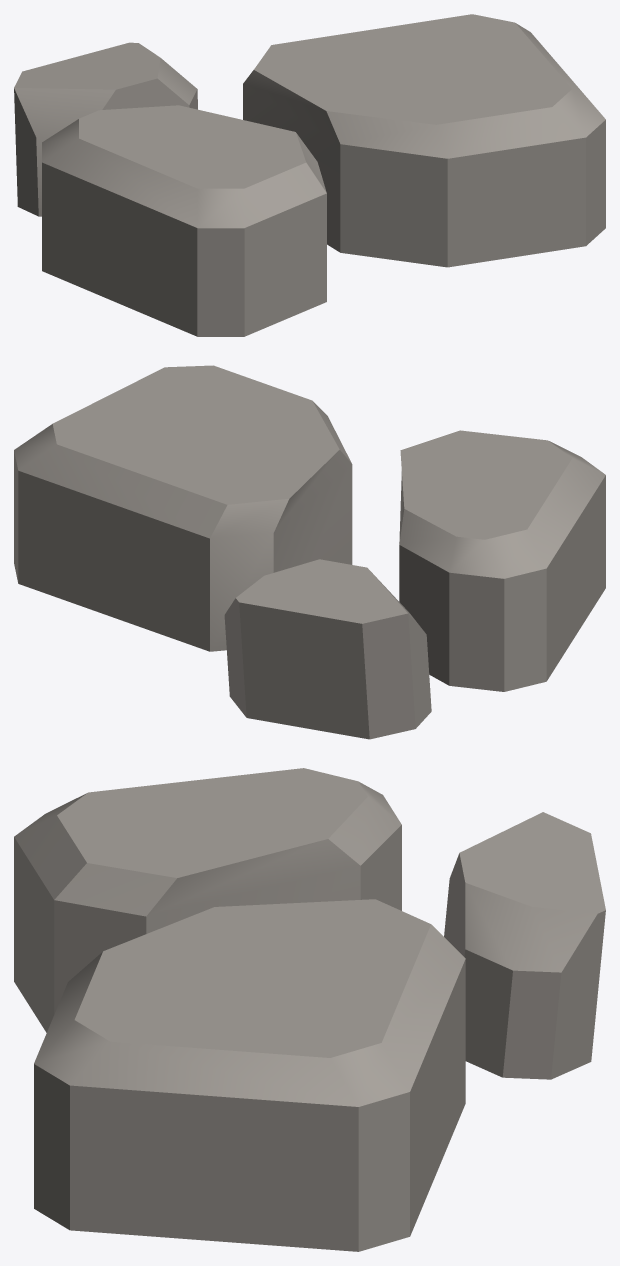
File: Stone Fence 03.FBX
3 renders of one model, top to bottom at view 1: azimuth 30°, elevation 25°; view 2: azimuth 150°, elevation 25°; view 3: azimuth 270°, elevation 25°, orthographic. The views are drawn at different scales.
Parts seen in each view (by area): view 1: Stone Fence 03; view 2: Stone Fence 03; view 3: Stone Fence 03.
Part boxes in pixels (<box>): Stone Fence 03: <box>14,14,605,336</box>; Stone Fence 03: <box>14,365,605,739</box>; Stone Fence 03: <box>14,768,605,1251</box>.
Bounding box in the file's own units: 118 × 31.86 × 90.6.
1 material, 1 textured.
